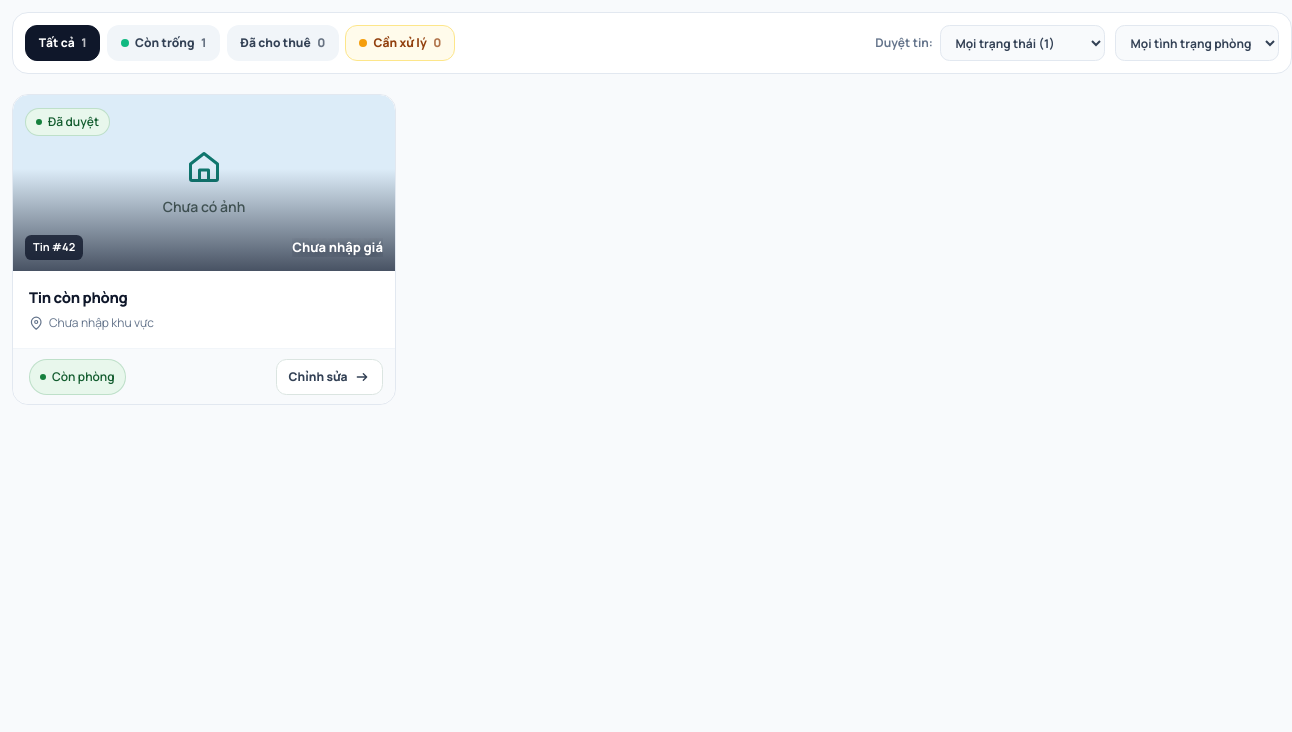
OwnerListingsPage › updates business status through the existing owner endpoint
Click the button with aria-label "Xem chi tiết chỗ ở: Tin còn phòng". click: click(204, 183)
box: [13,95,395,271]
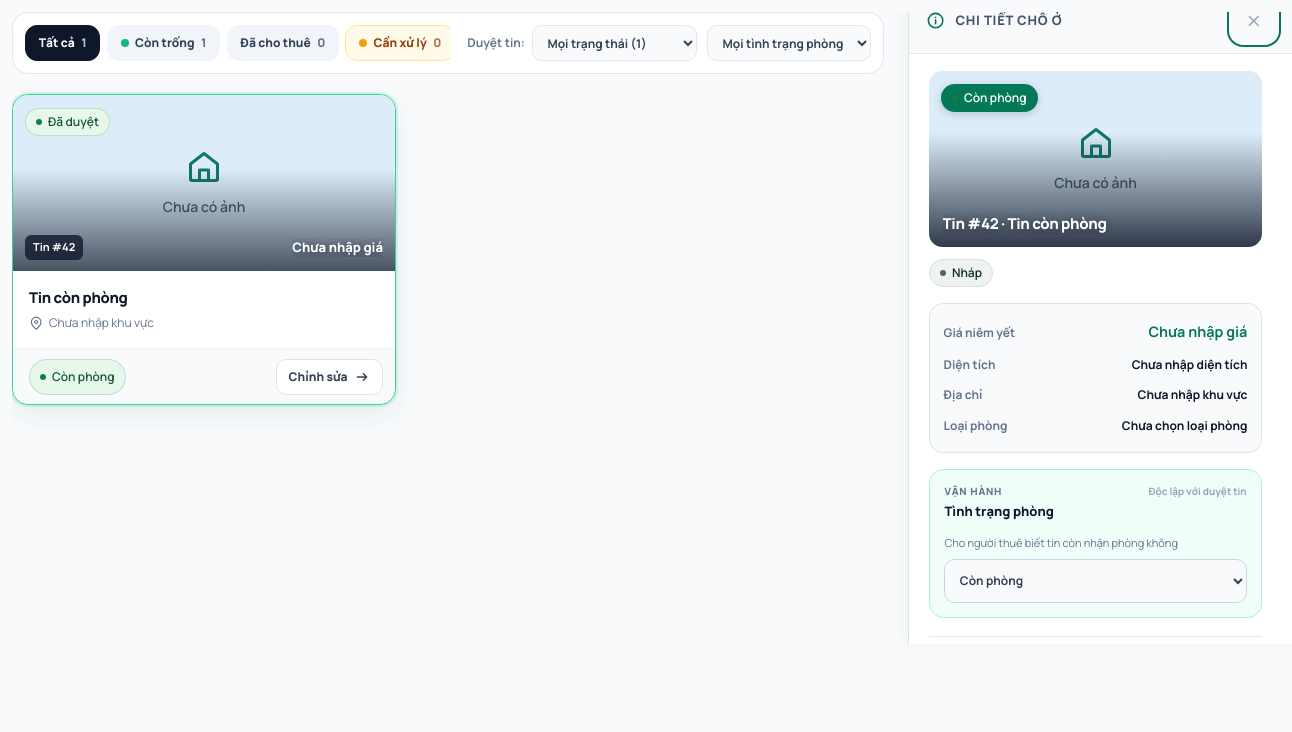
Select "Đã thuê" in the dropdown named "Tình trạng phòng cho Tin còn phòng". click: (1096, 580)
box: [944,558,1247,602]
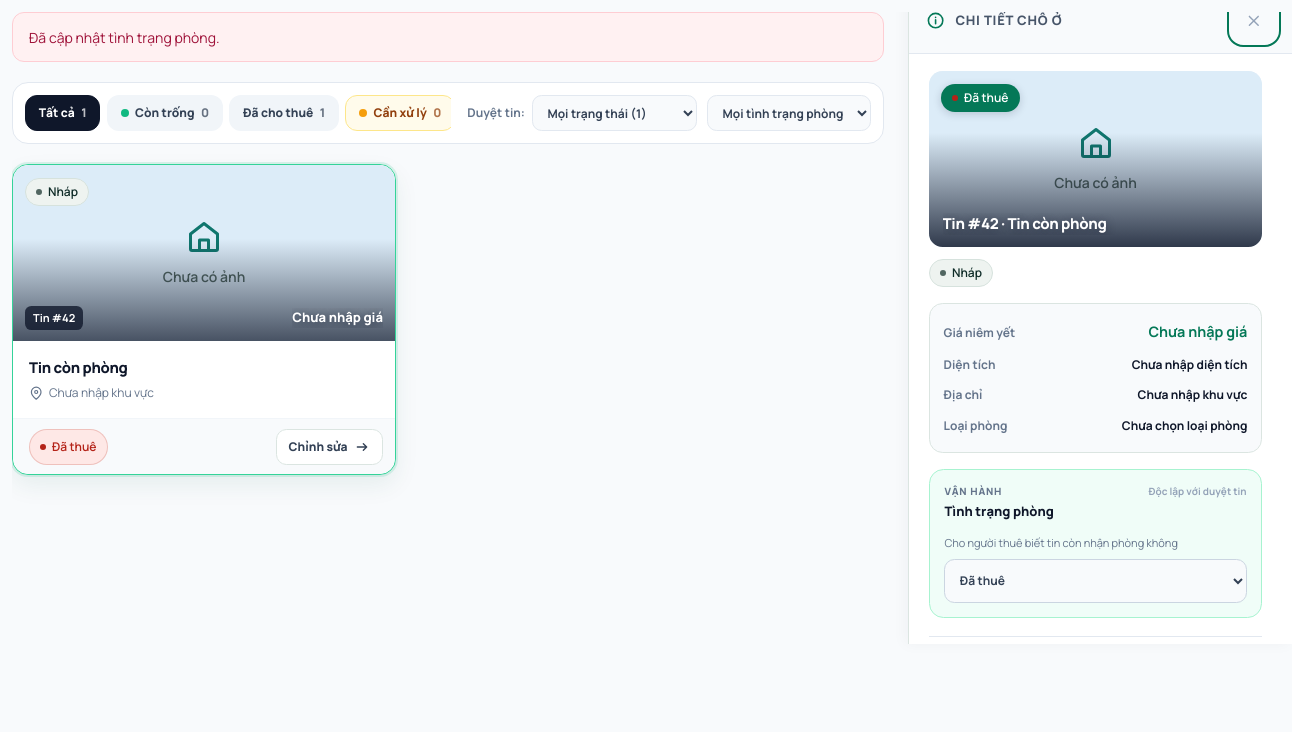
expect the message reads "Đã cập nhật tình trạng phòng.": met, box [29,28,220,47]
